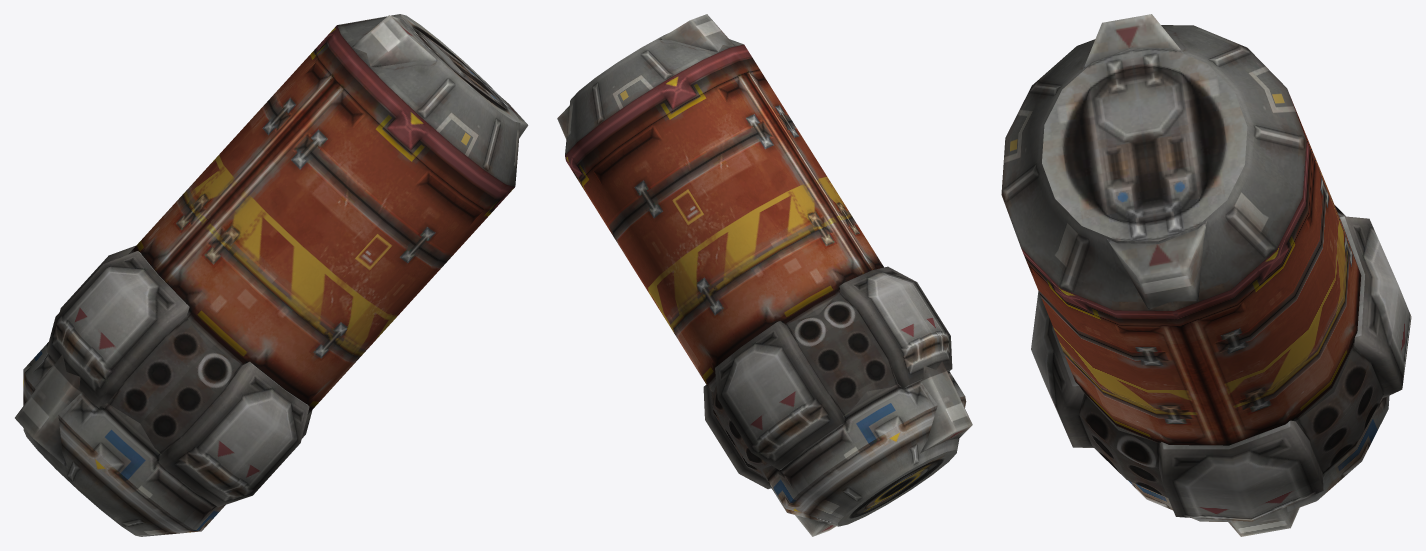
Rendered from hgn_collectable_loot_04.glb.
3 views of the same model, side by side, from view 1: azimuth 30°, elevation 25°; view 2: azimuth 150°, elevation 25°; view 3: azimuth 270°, elevation 25° (orthographic). The views are drawn at different scales.
Parts seen in each view (by area): view 1: loot_container_03; view 2: loot_container_03; view 3: loot_container_03.
Boxes of the visible parts, bbox=[...] form: loot_container_03: bbox=[15, 14, 528, 536]; loot_container_03: bbox=[557, 14, 972, 536]; loot_container_03: bbox=[1001, 14, 1411, 536].
Bounding box in the file's own units: 1.01 × 1.03 × 0.5926.
Materials: 1 (1 with a texture image).
